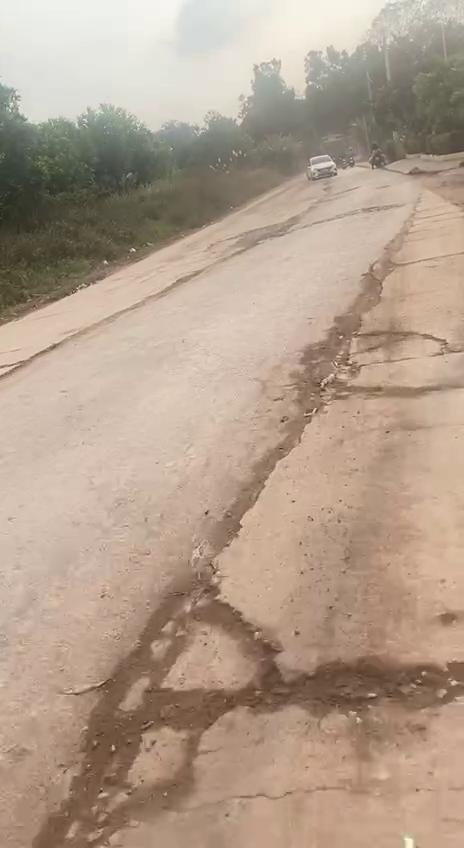pothole: (68, 574, 464, 808)
